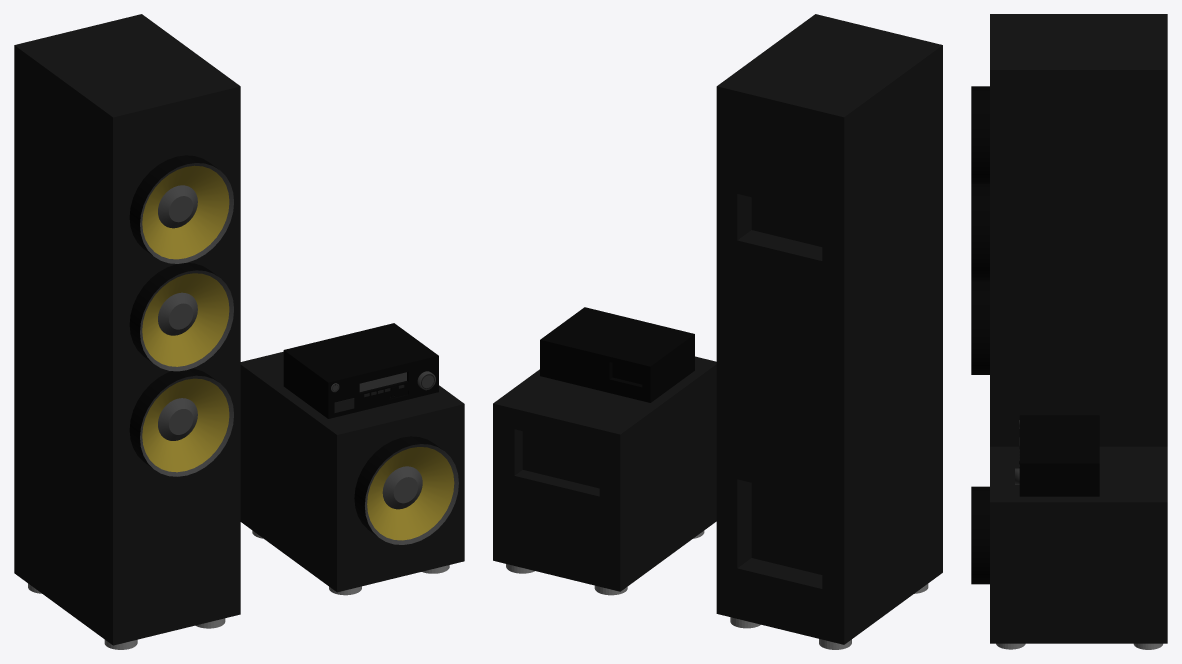
The model's file is kino_domowe.fbx.
3 renders of one model, left to right at view 1: azimuth 30°, elevation 25°; view 2: azimuth 150°, elevation 25°; view 3: azimuth 270°, elevation 25°, orthographic. The views are drawn at different scales.
Visible parts, largest first — view 1: Cylinder.007, Cylinder.015, Cube.004; view 2: Cylinder.007, Cylinder.015, Cube.004; view 3: Cylinder.007, Cylinder.015, Cube.004.
Boxes of the visible parts, x1,y1,x2,y2 form: Cylinder.007: (14,14,240,649); Cylinder.015: (240,351,464,595); Cube.004: (283,323,438,418); Cylinder.007: (716,14,942,649); Cylinder.015: (493,356,716,595); Cube.004: (540,307,694,402); Cylinder.007: (971,14,1167,446); Cylinder.015: (971,446,1167,649); Cube.004: (1015,415,1099,496).
Size of the model in its own units: 348 by 510 by 187.
